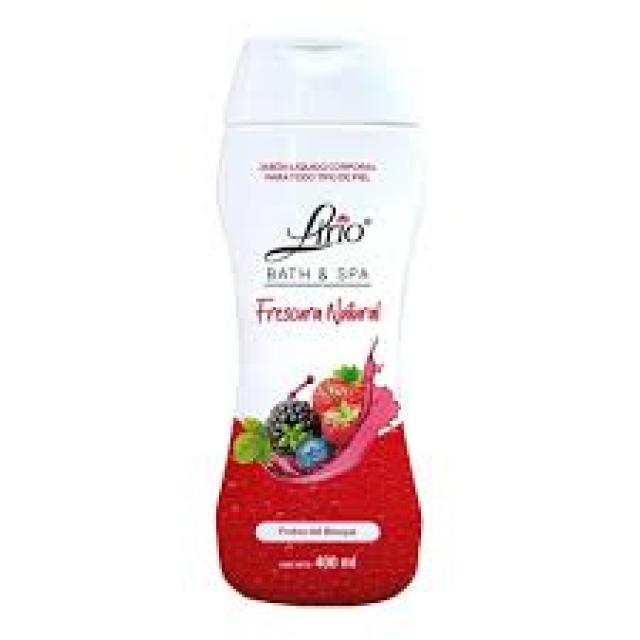Botella: (203, 29, 428, 595)
